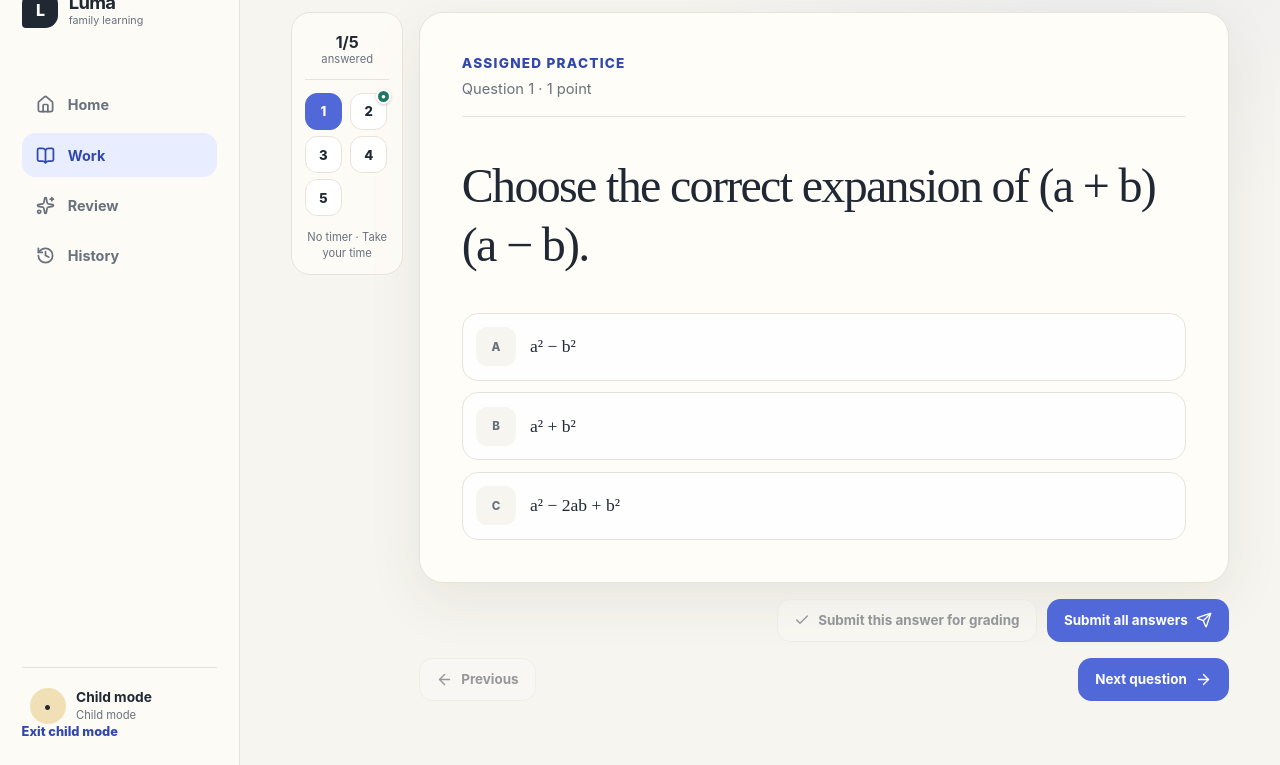
Test: WorksheetWorkbench › restores an answer saved on this device when the same practice is reopened
(page scrolled)
Expected: the heading "Choose the correct expansion of (a + b)(a − b)." is shown, [462,157,1186,274]
Click the button "Next question".
click(1154, 679)  # box [1078,658,1229,701]
(page scrolled)
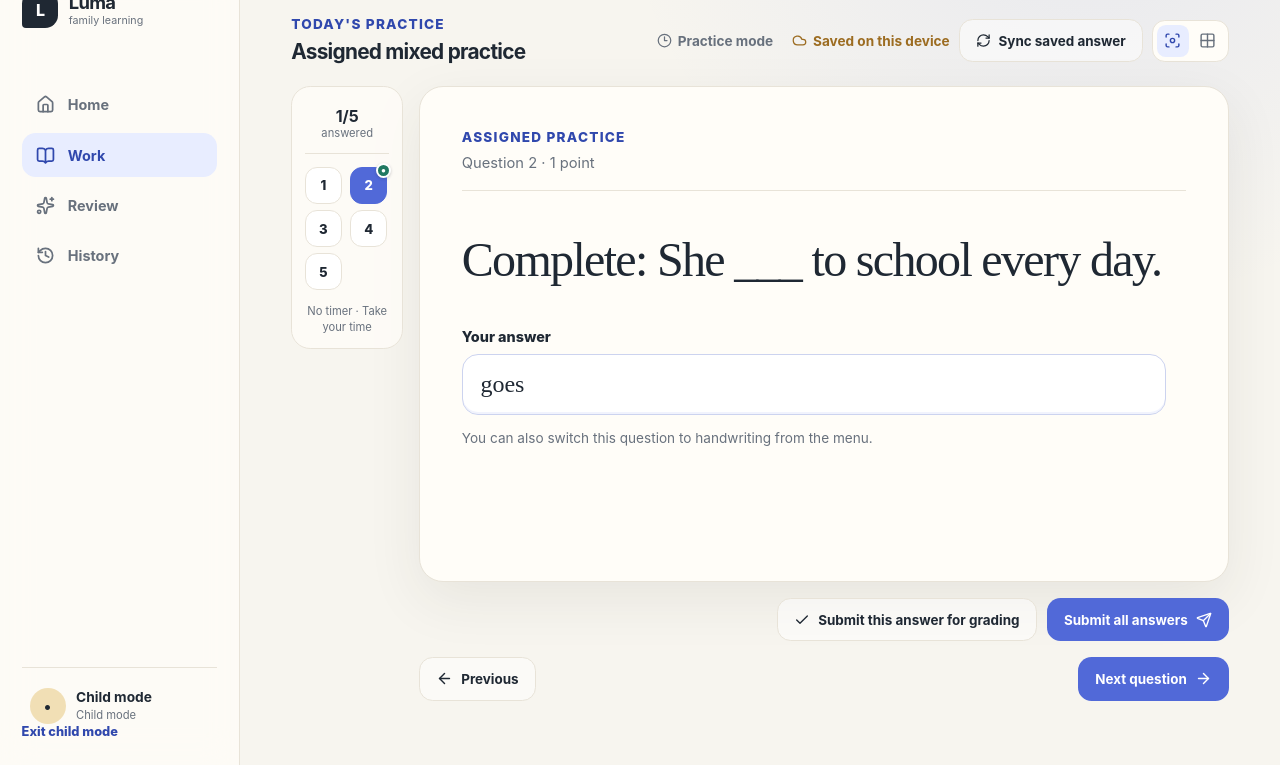
Expected: the text "Saved on this device" is shown, [792,33,950,49]
Expected: the field labelled "Your answer" holds "goes", [462,354,1166,415]
